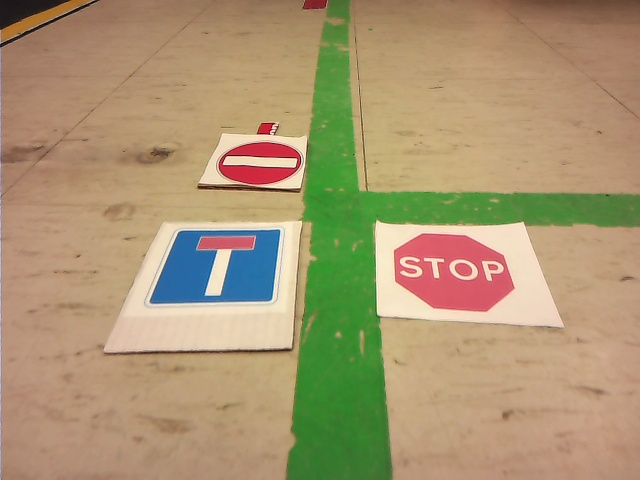DEAD END: (150, 227, 283, 305)
NO ENTRY: (219, 142, 301, 184)
STOP: (396, 233, 513, 311)
